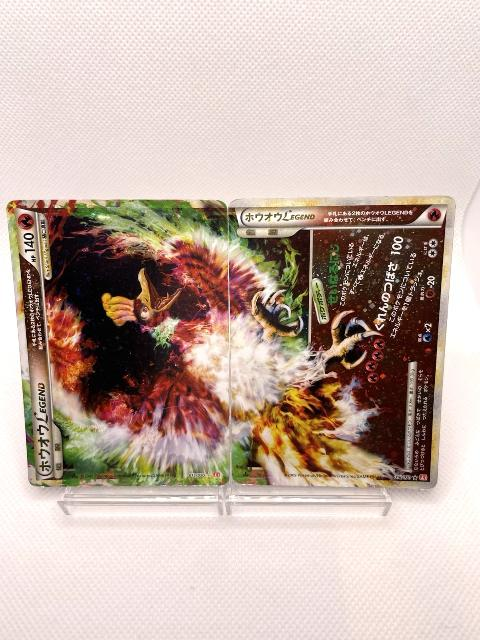Card: (227, 193, 458, 490), (4, 197, 232, 490)
Name: (30, 378, 55, 477), (240, 208, 318, 226)
